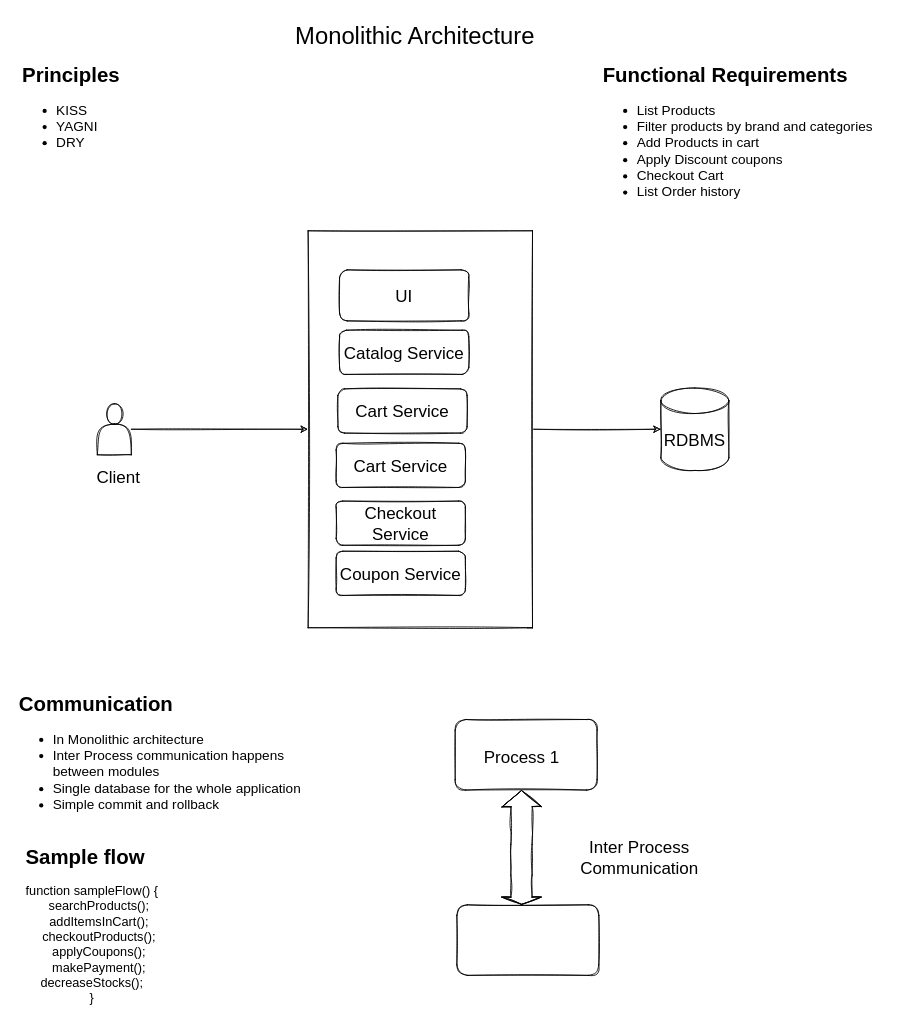
This 920x1023 diagram has some shape labels left out. Here are the shapes that lost their labels. From the top down, the box of each, then its label:
(307, 230, 533, 628): Ecommerce App
(456, 904, 599, 975): Process 2
